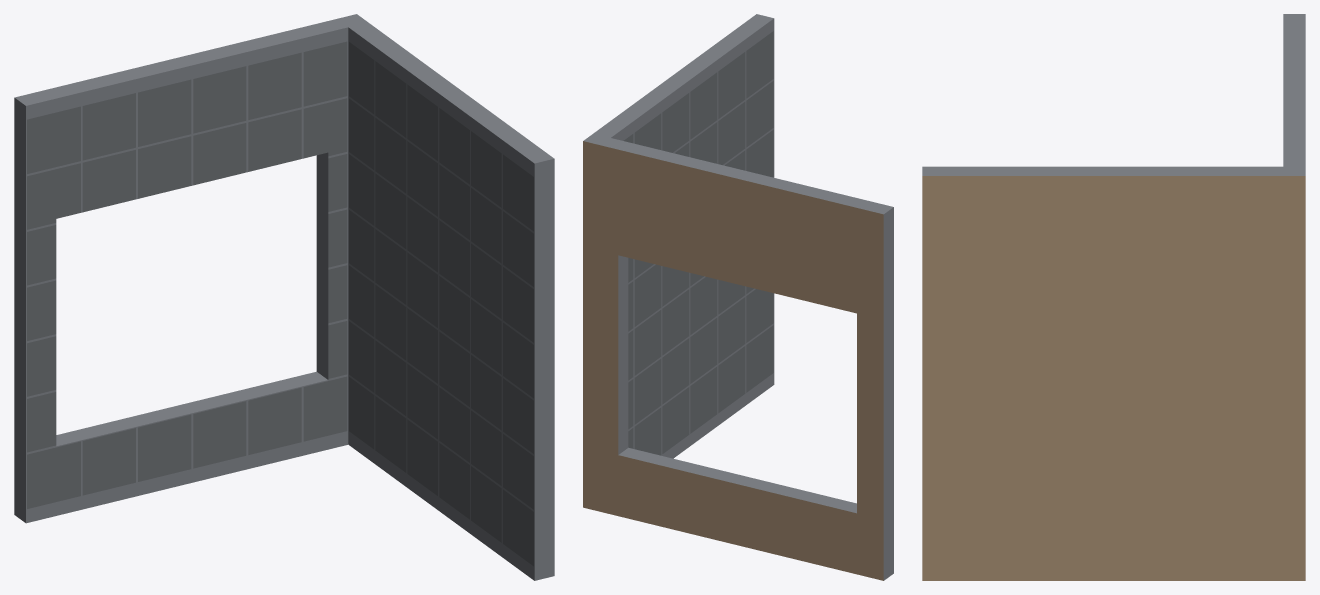
File: Wall2_C7_13.fbx
3 views of the same model, side by side, from view 1: azimuth 30°, elevation 25°; view 2: azimuth 150°, elevation 25°; view 3: azimuth 270°, elevation 25° (orthographic). The views are drawn at different scales.
Visible parts, largest first — view 1: Wall2_C7_13; view 2: Wall2_C7_13; view 3: Wall2_C7_13.
Part boxes in pixels (<box>): Wall2_C7_13: <box>14,14,554,580</box>; Wall2_C7_13: <box>583,14,893,580</box>; Wall2_C7_13: <box>922,14,1305,580</box>.
Size of the model in its own units: 258 by 300 by 258.
